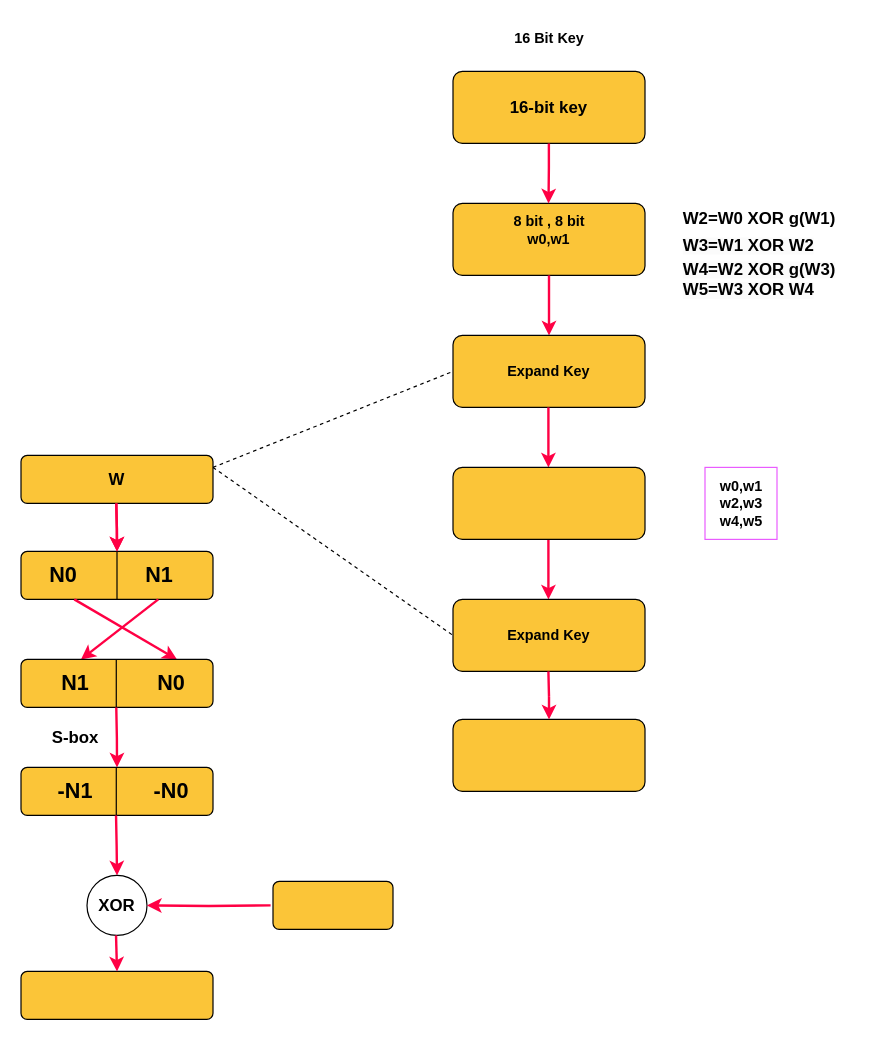
The diagram is 894 pixels wide and 1040 high, and some of its shapes have lost their labels. Each missing label, with the centre of its shape:
"-W" belongs at pixel 116 994.
"Constant" belongs at pixel 332 904.
"w2,w3" belongs at pixel 548 502.
"w4,w5" belongs at pixel 548 754.
